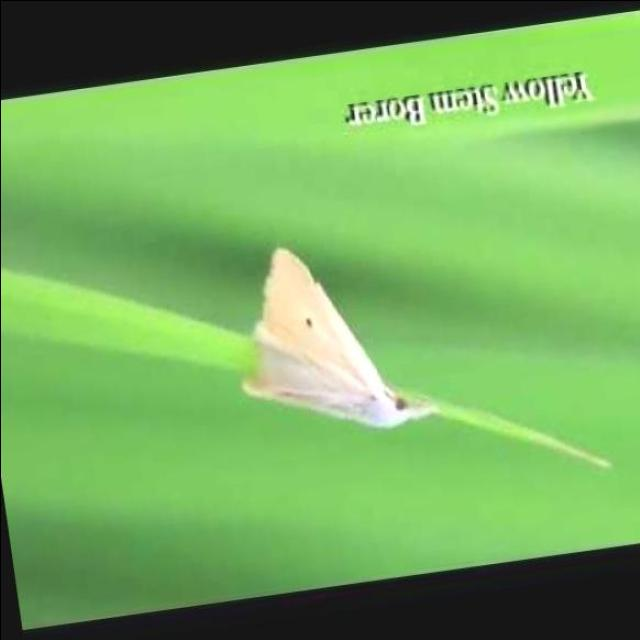stem borer: (242, 247, 432, 427)
